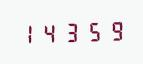five: (81, 19, 101, 42)
four: (39, 21, 59, 44)
nine: (102, 18, 122, 42)
one: (18, 21, 38, 45)
three: (60, 20, 80, 43)
